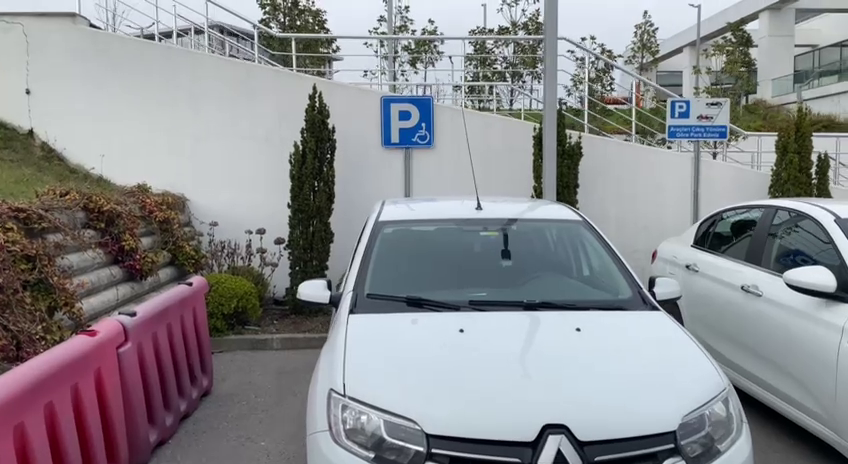parking: (378, 95, 434, 149), (668, 99, 692, 121)
